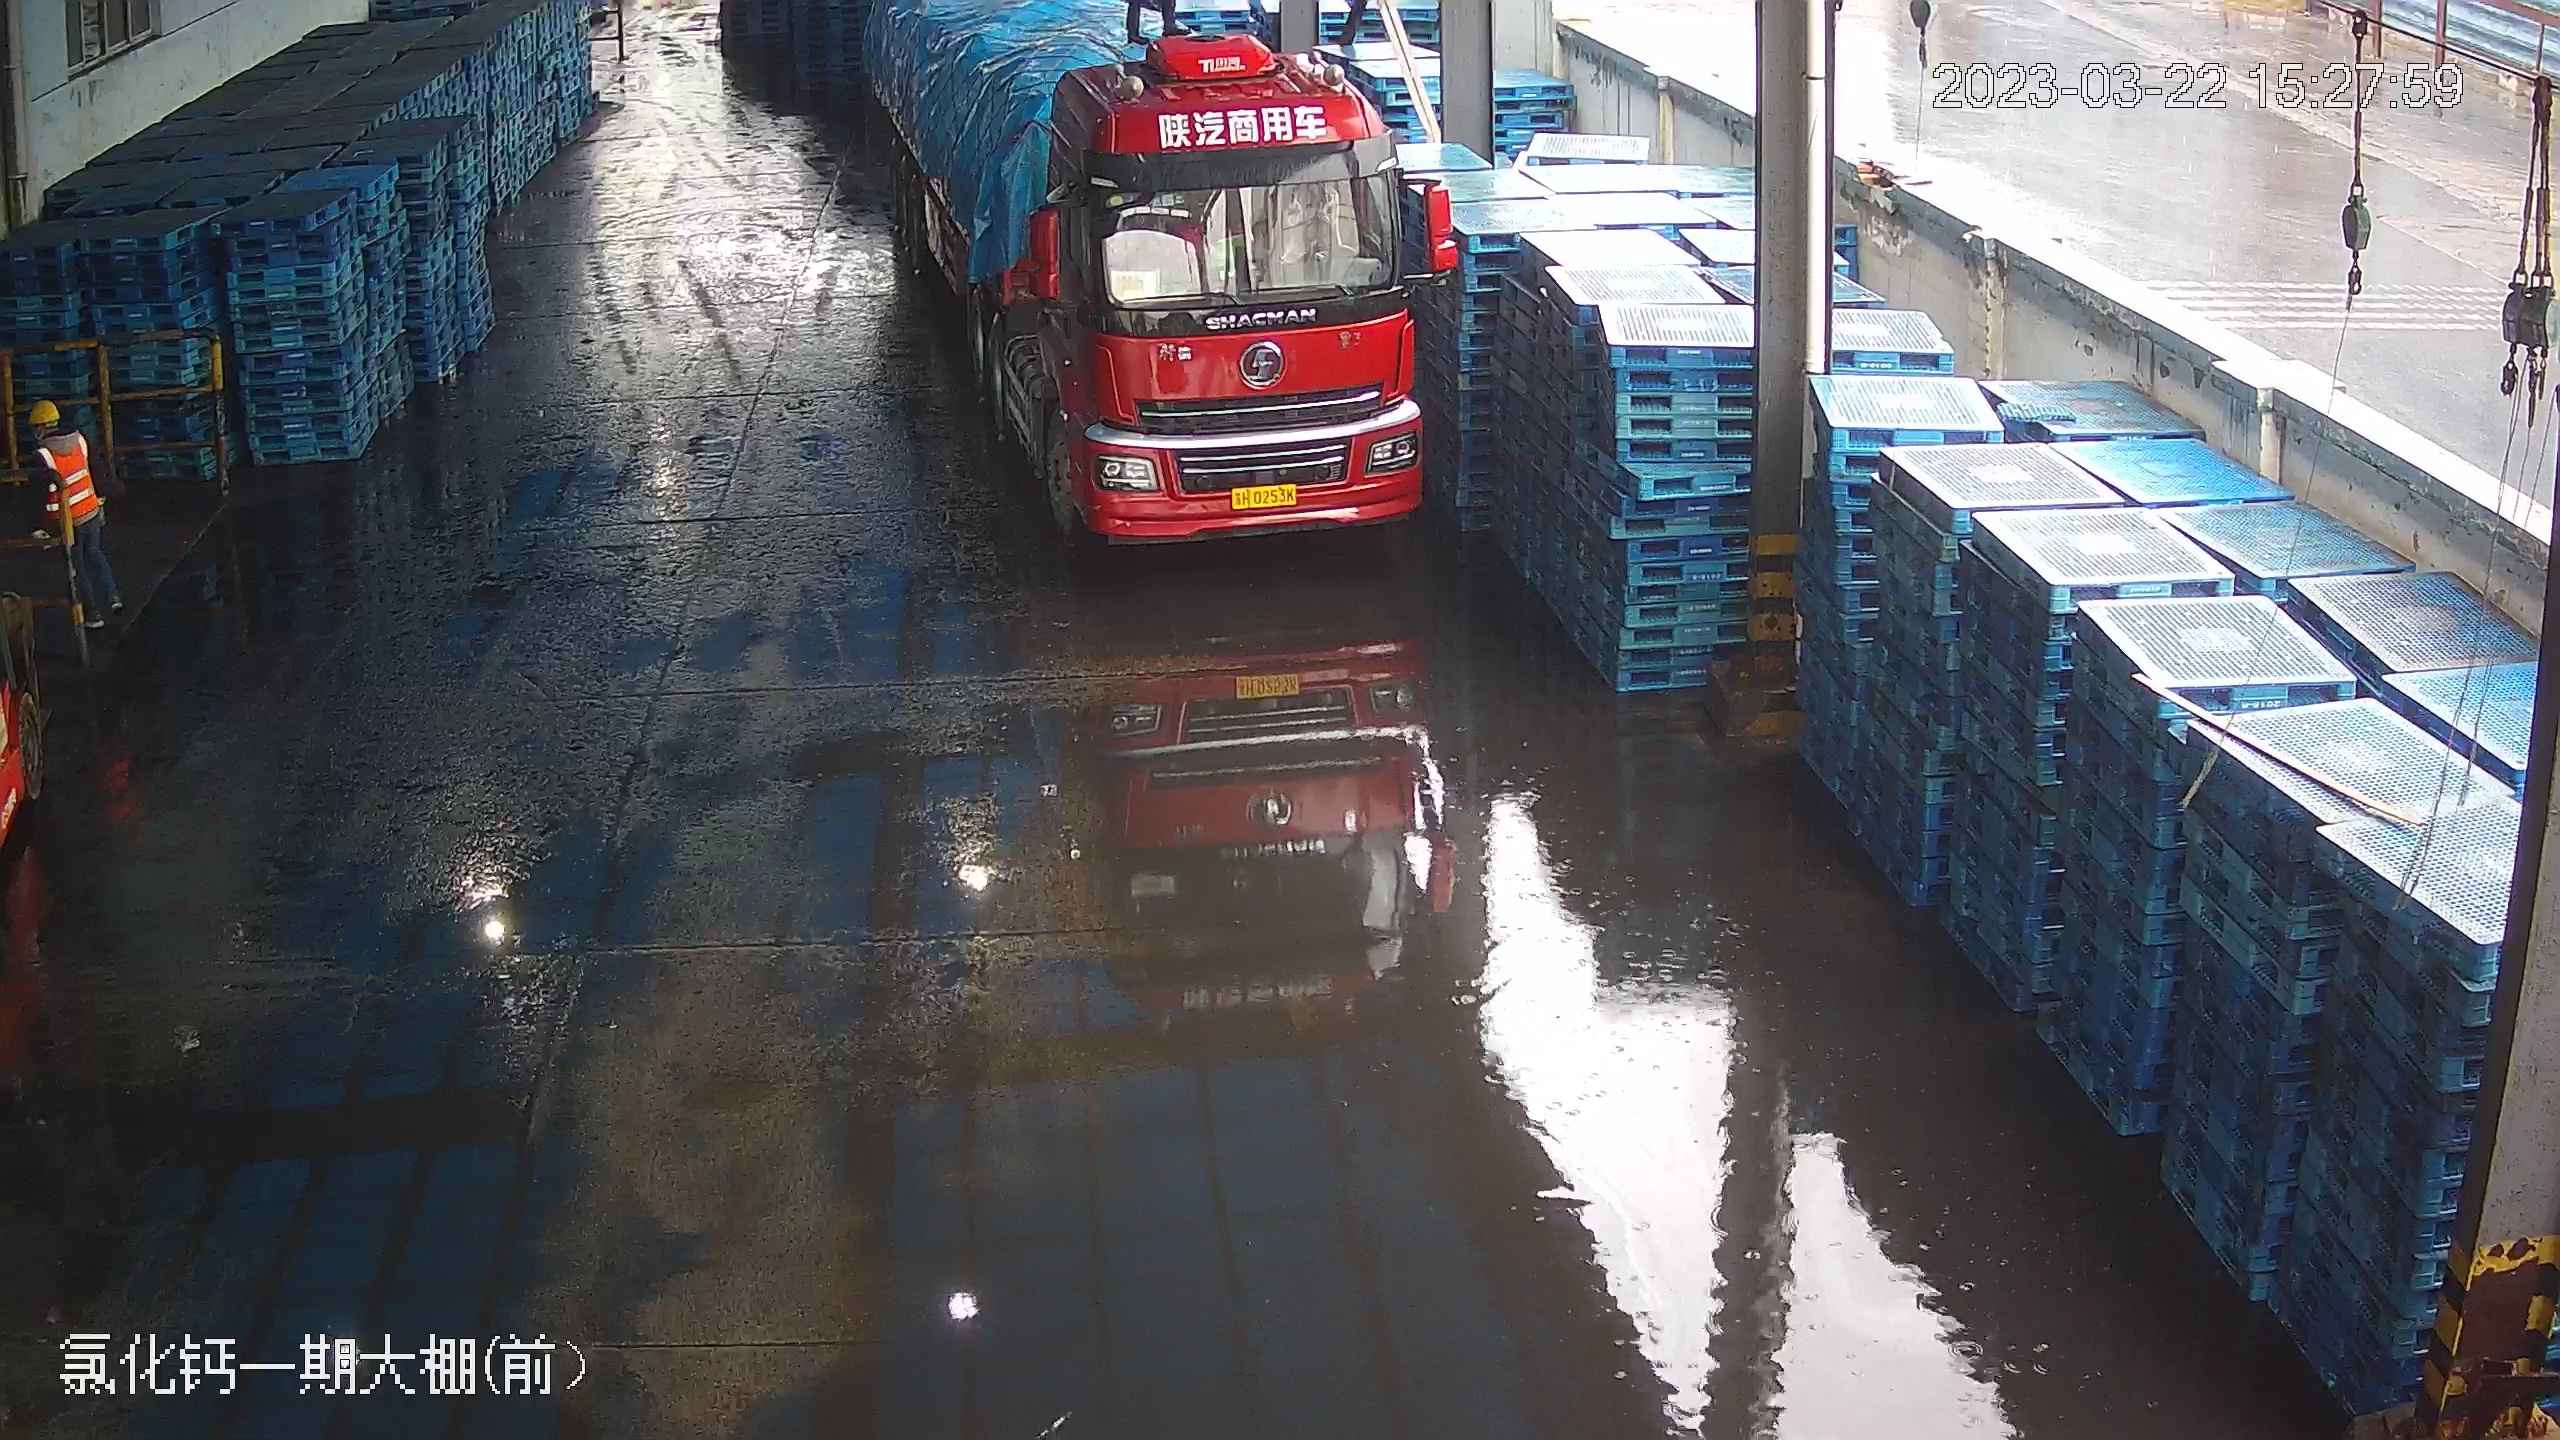head: (17, 397, 89, 472)
helmet: (24, 398, 61, 426)
people: (16, 392, 116, 642)
truck: (880, 13, 1455, 547)
